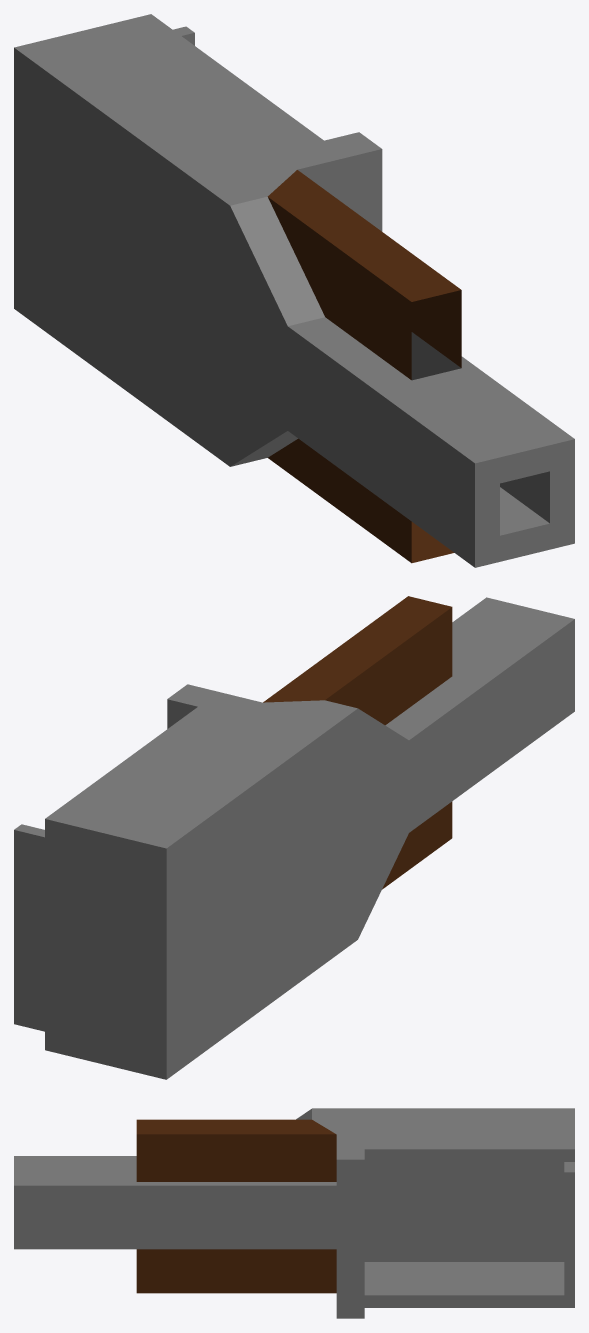
Rendered from HouseFireplace.obj.
The picture shows the model from 3 angles, top to bottom: view 1: azimuth 30°, elevation 25°; view 2: azimuth 150°, elevation 25°; view 3: azimuth 270°, elevation 25°; orthographic projection. The views are drawn at different scales.
Parts seen in each view (by area): view 1: Untitled_ID2; view 2: Untitled_ID2; view 3: Untitled_ID2.
Boxes of the visible parts, x1,y1,x2,y2 form: Untitled_ID2: (14, 14, 574, 567); Untitled_ID2: (14, 596, 574, 1079); Untitled_ID2: (14, 1108, 574, 1318).
Bounding box in the file's own units: 0.69 × 1 × 3.2.
